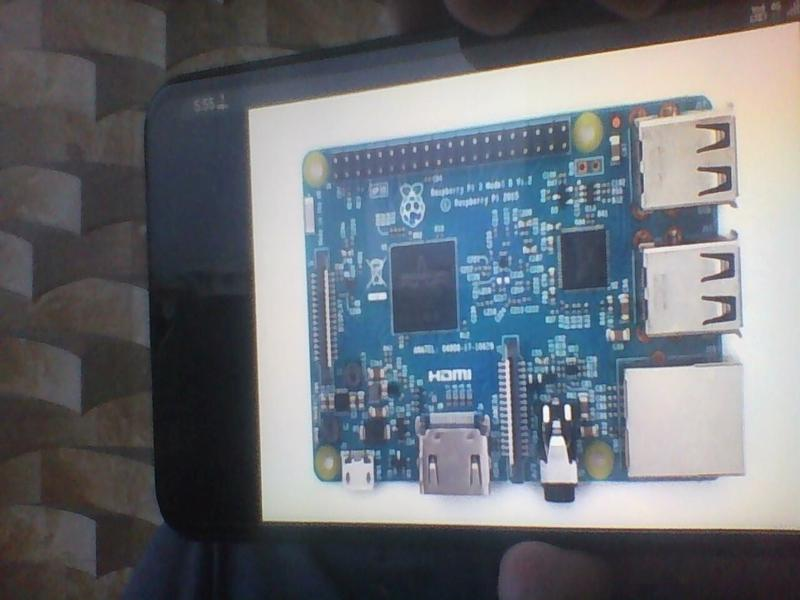aud: (537, 398, 579, 510)
eth: (622, 362, 747, 483)
usb: (630, 109, 740, 210), (638, 240, 743, 334)
